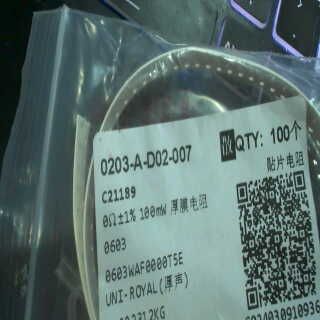0R: (100, 202, 167, 256)
